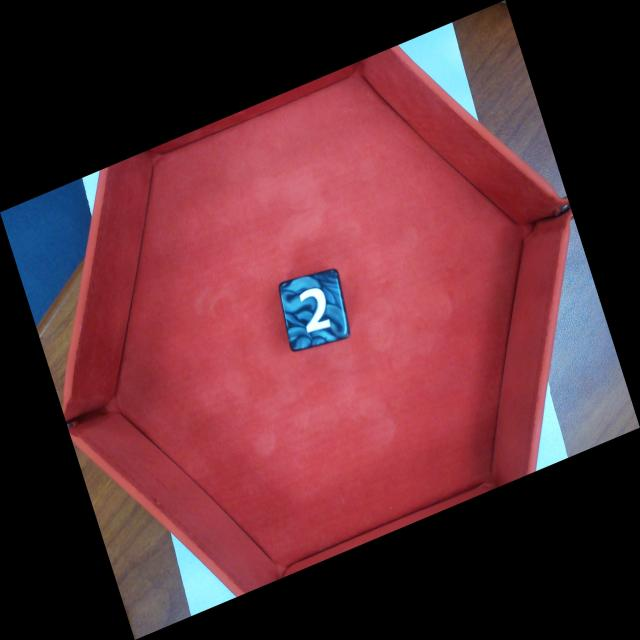dice: (279, 268, 348, 354)
